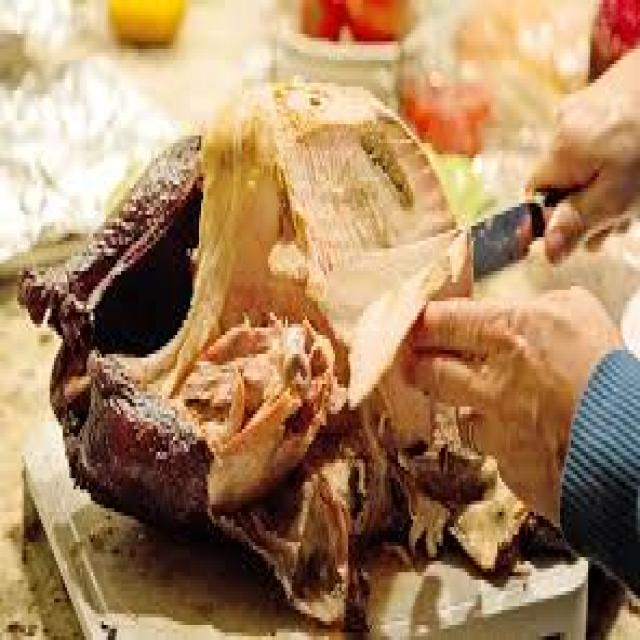organic waste: (15, 72, 543, 618), (145, 86, 469, 392), (15, 120, 212, 372), (54, 328, 244, 538), (184, 305, 339, 501), (262, 463, 366, 636), (394, 418, 488, 550), (445, 471, 545, 587), (398, 30, 488, 154), (344, 410, 402, 561), (584, 0, 638, 75), (106, 0, 188, 41), (340, 0, 415, 34), (296, 0, 346, 45)
